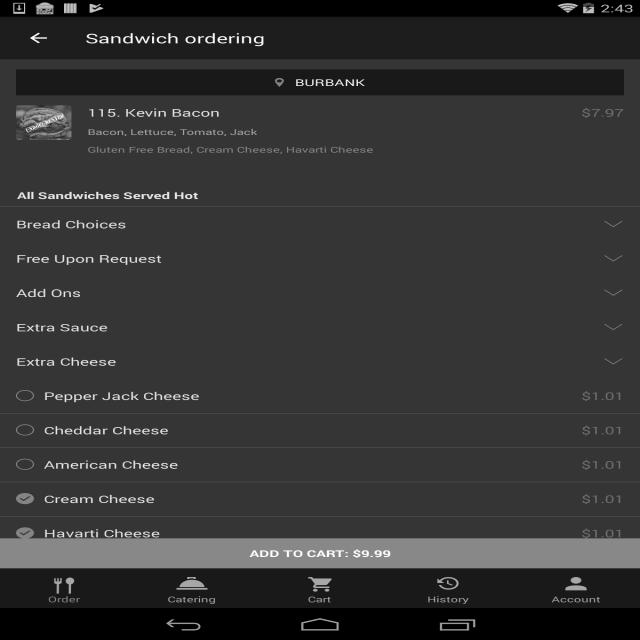CheckBox: (16, 389, 34, 402), (16, 458, 34, 471), (16, 492, 34, 505), (16, 424, 34, 436), (16, 527, 34, 539)
ImageButton: (9, 17, 68, 59)
ImageView: (16, 105, 71, 140), (176, 577, 208, 590), (53, 577, 75, 594), (308, 577, 332, 592), (603, 217, 624, 231), (603, 320, 624, 334), (437, 577, 459, 590), (565, 577, 587, 590), (603, 252, 624, 265), (603, 286, 624, 299), (603, 355, 624, 368)
TextView: (0, 538, 640, 568), (87, 144, 576, 174), (16, 251, 603, 266), (16, 354, 603, 369), (16, 217, 603, 231), (16, 286, 603, 300), (16, 320, 603, 334), (17, 189, 640, 202), (44, 457, 581, 472), (44, 389, 581, 403), (44, 423, 581, 437), (44, 492, 581, 506), (44, 526, 581, 540), (87, 105, 576, 120), (87, 126, 576, 138), (85, 29, 265, 47), (274, 76, 364, 89), (552, 590, 600, 605), (167, 590, 216, 604), (581, 105, 624, 120), (581, 457, 624, 472), (581, 389, 624, 403), (581, 423, 624, 437), (581, 492, 624, 506), (581, 526, 624, 540), (427, 590, 469, 604), (48, 594, 80, 604), (308, 592, 332, 604)
